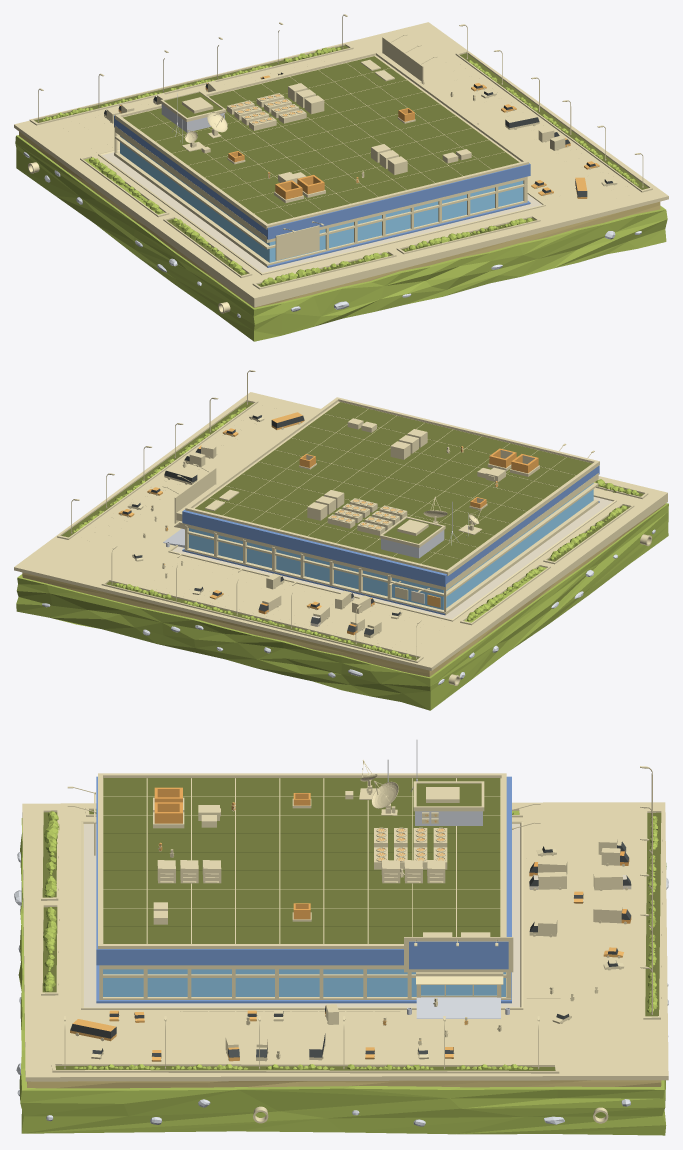
The model's file is Cartoon_Low_Poly_Supermarket_City_Scene.glb.
The picture shows the model from 3 angles, top to bottom: view 1: azimuth 30°, elevation 25°; view 2: azimuth 150°, elevation 25°; view 3: azimuth 270°, elevation 25°; orthographic projection. The views are drawn at different scales.
Parts seen in each view (by area): view 1: Asplalt_Black_1_0, Floor_Ground_0, Cube_Windows_0, Cube_1_Building Blue_1_0, Roof_3_White_1_0, Sand1_Ground1_0, Roof_3_Black_1_0, Cube_13_3_Building_Yellow_0, Cube_15_3_White_1_0, Cube_16_3_White_1_0, Cube_36_14_White_1_0, bardu8_1_White_1_0 (+13 smaller); view 2: Asplalt_Black_1_0, Floor_Ground_0, Cube_Windows_0, Cube_1_Building Blue_1_0, Roof_3_White_1_0, Sand1_Ground1_0, Roof_3_Black_1_0, Cube_13_3_Building_Yellow_0, Cube_15_3_White_1_0, Cube_16_3_White_1_0, Cube_36_14_White_1_0, bardu8_1_White_1_0 (+10 smaller); view 3: Asplalt_Black_1_0, Floor_Ground_0, Cube_Windows_0, Cube_1_Building Blue_1_0, Cube_13_3_Building_Yellow_0, Roof_3_White_1_0, Sand1_Ground1_0, Roof_3_Black_1_0, bardu8_1_2_White_1_0, Cube_32_2_Building Blue_1_0, Cube_40_2_White_1_0, bardu8_1_Tree_4_0 (+73 smaller).
Part boxes in pixels (x1,y1,x2,y2): Asplalt_Black_1_0: (14, 22, 668, 307); Floor_Ground_0: (15, 135, 667, 341); Cube_Windows_0: (120, 136, 523, 262); Cube_1_Building Blue_1_0: (114, 115, 530, 239); Roof_3_White_1_0: (115, 51, 528, 229); Sand1_Ground1_0: (19, 131, 660, 307); Roof_3_Black_1_0: (122, 55, 521, 217); Cube_13_3_Building_Yellow_0: (102, 151, 541, 272); Cube_15_3_White_1_0: (114, 151, 527, 266); Cube_16_3_White_1_0: (114, 126, 527, 242); Cube_36_14_White_1_0: (114, 135, 527, 249); bardu8_1_White_1_0: (29, 43, 353, 125); Asplalt_Black_1_0: (14, 392, 667, 670); Floor_Ground_0: (16, 503, 668, 710); Cube_Windows_0: (189, 483, 593, 609); Cube_1_Building Blue_1_0: (182, 465, 599, 586); Roof_3_White_1_0: (185, 397, 599, 575); Sand1_Ground1_0: (22, 504, 665, 676); Roof_3_Black_1_0: (193, 401, 575, 563); Cube_13_3_Building_Yellow_0: (172, 497, 612, 619); Cube_15_3_White_1_0: (184, 499, 598, 614); Cube_16_3_White_1_0: (185, 473, 598, 590); Cube_36_14_White_1_0: (187, 482, 598, 596); bardu8_1_White_1_0: (101, 579, 423, 662); Asplalt_Black_1_0: (22, 802, 668, 1081); Floor_Ground_0: (18, 818, 666, 1135); Cube_Windows_0: (103, 969, 505, 996); Cube_1_Building Blue_1_0: (96, 776, 511, 965); Cube_13_3_Building_Yellow_0: (84, 824, 520, 1007); Roof_3_White_1_0: (98, 773, 506, 948); Sand1_Ground1_0: (27, 1080, 661, 1088); Roof_3_Black_1_0: (103, 778, 501, 943); bardu8_1_2_White_1_0: (51, 1063, 559, 1073); Cube_32_2_Building Blue_1_0: (409, 941, 508, 969); Cube_40_2_White_1_0: (81, 821, 523, 1009); bardu8_1_Tree_4_0: (645, 812, 661, 1016).
Bounding box in the file's own units: 2405 × 685 × 2381.
